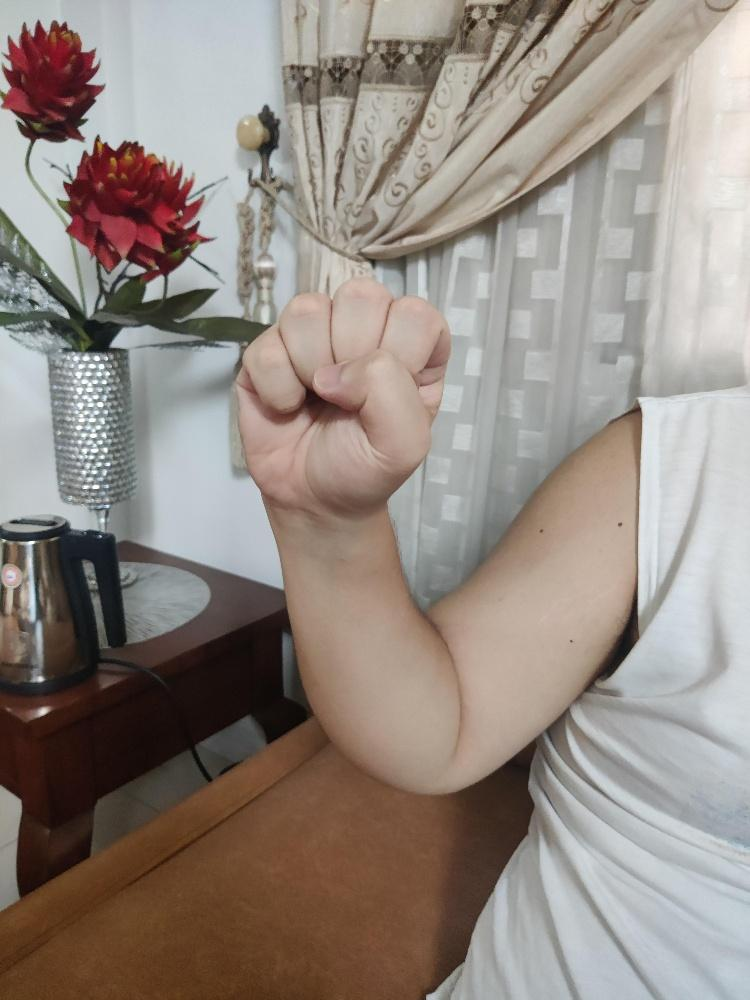s: (231, 273, 454, 516)
